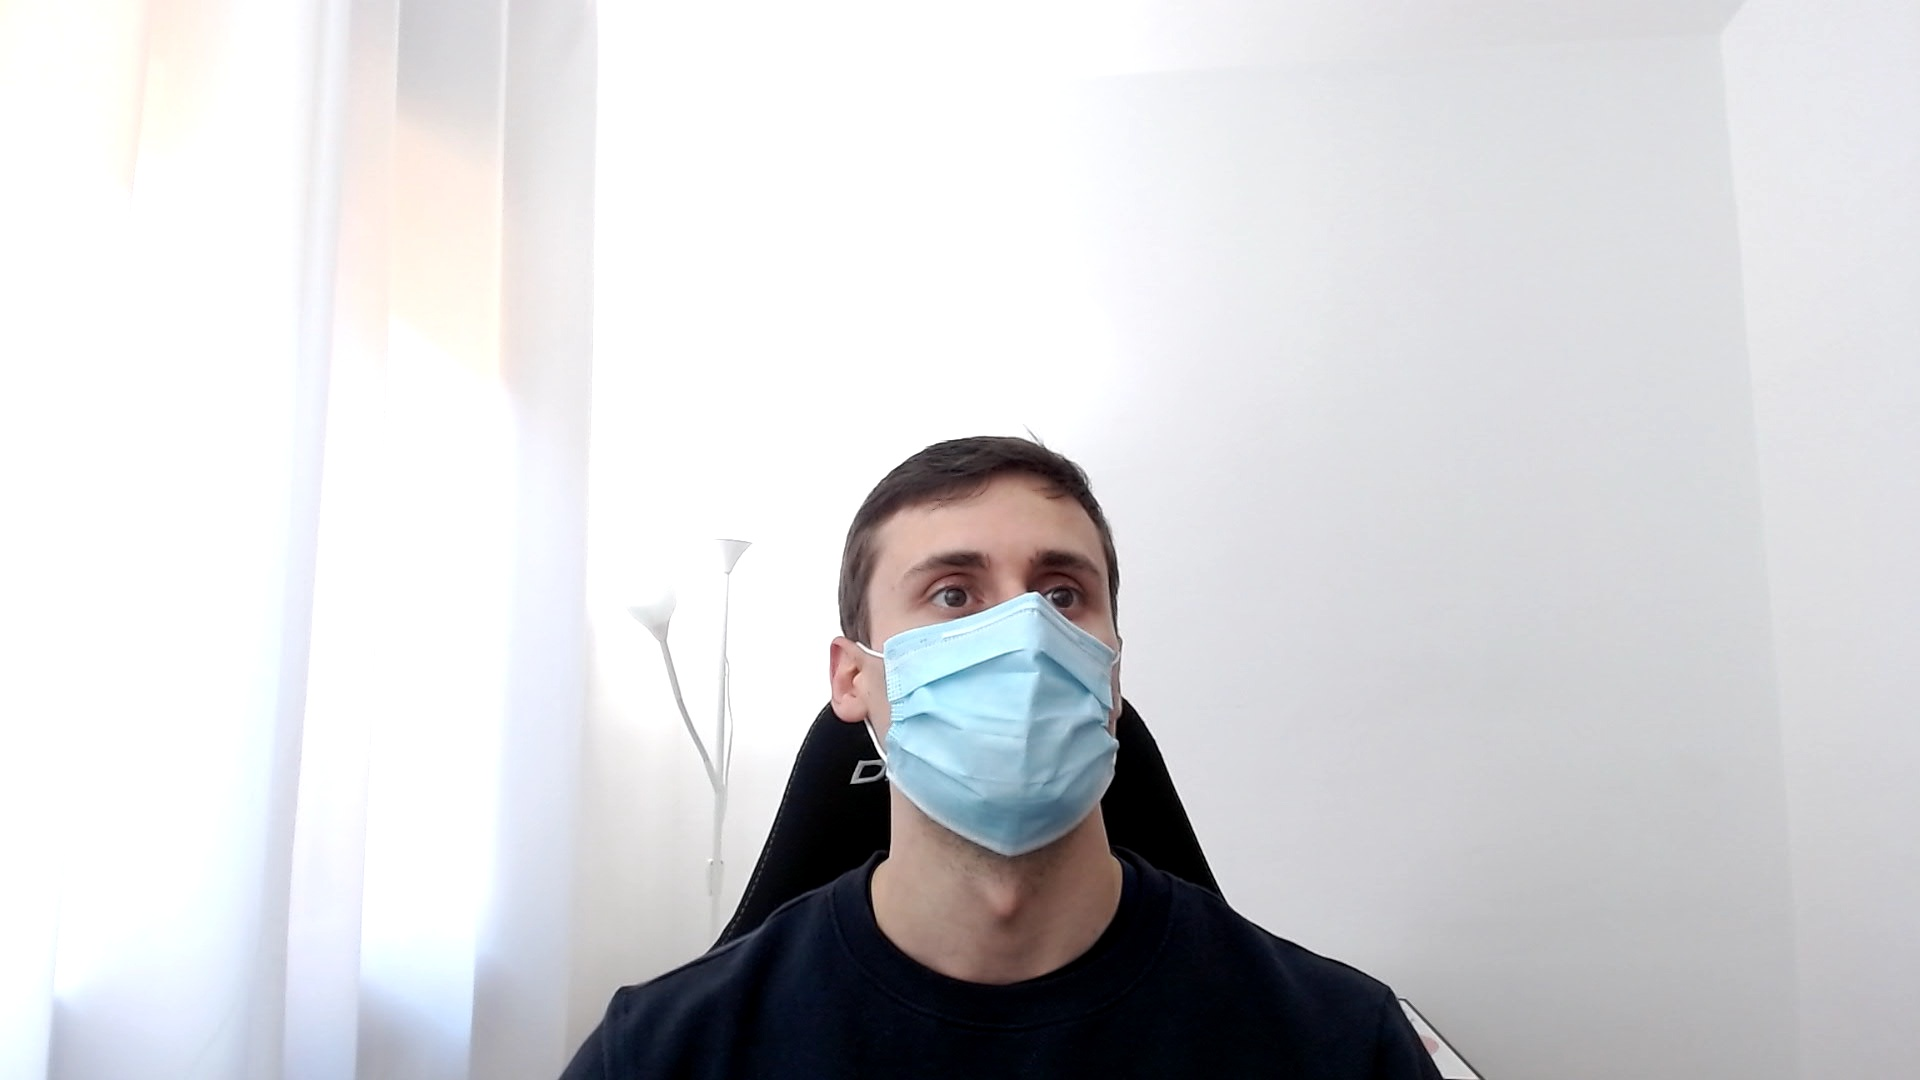Mask: (832, 436, 1125, 857)
